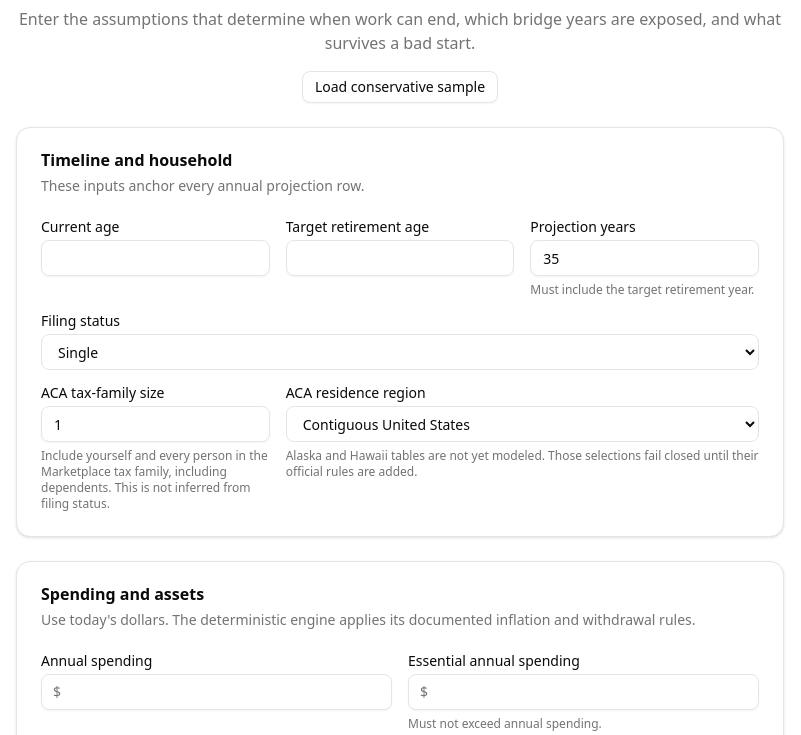
Test case: PlanIntakeStep Social Security behavior › requires divorced-spouse eligibility confirmation before running
This screenshot has width=801, height=735.
Click the button "Load conservative sample" at (400, 87), box [302,71,498,103]
(page scrolled)
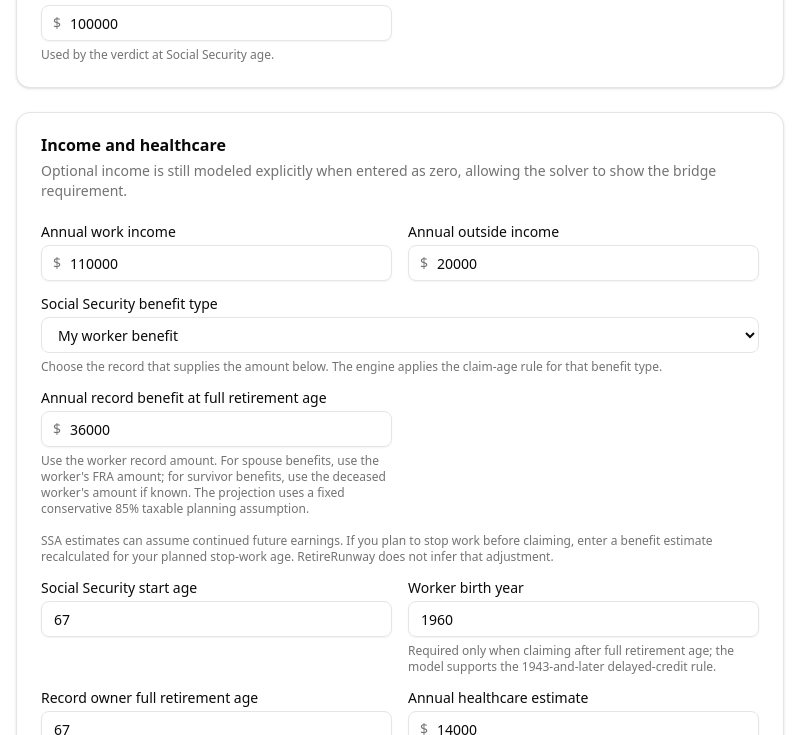
Select "Divorced-spouse benefit" in the dropdown labelled "Social Security benefit type" at (400, 335), box [41,317,759,353]
(page scrolled)
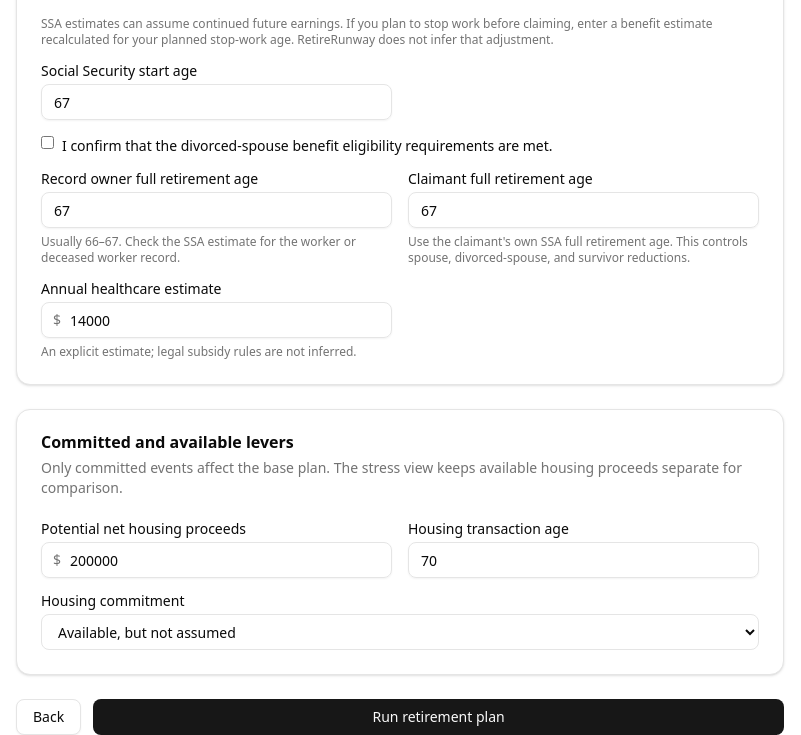
Click the button "Run retirement plan" at (439, 717), box [93,699,784,734]
(page scrolled)
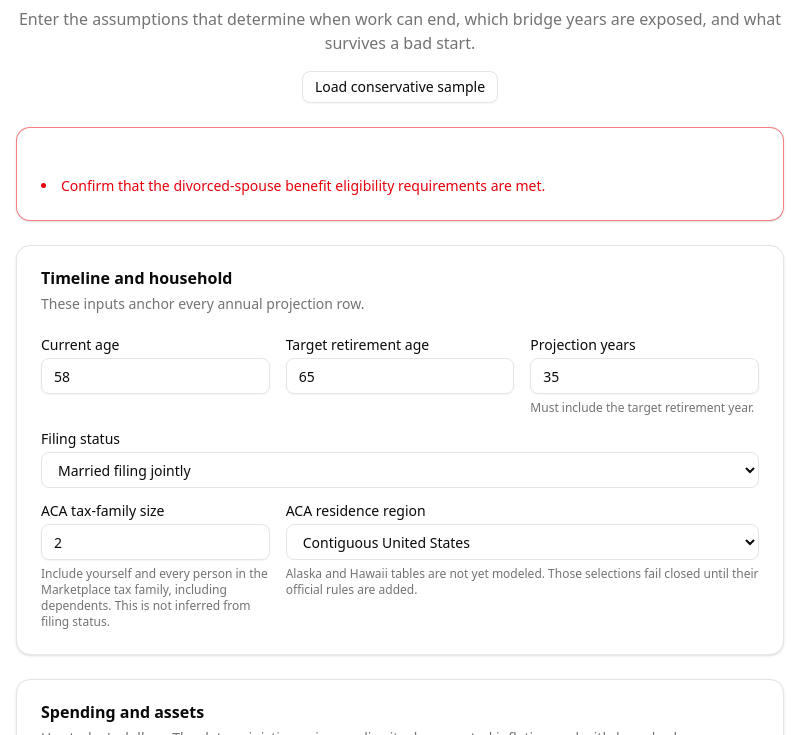
Now the list item "Confirm that the divorced-spouse benefit eligibility requirements are met." is shown, box [61,176,545,195]
